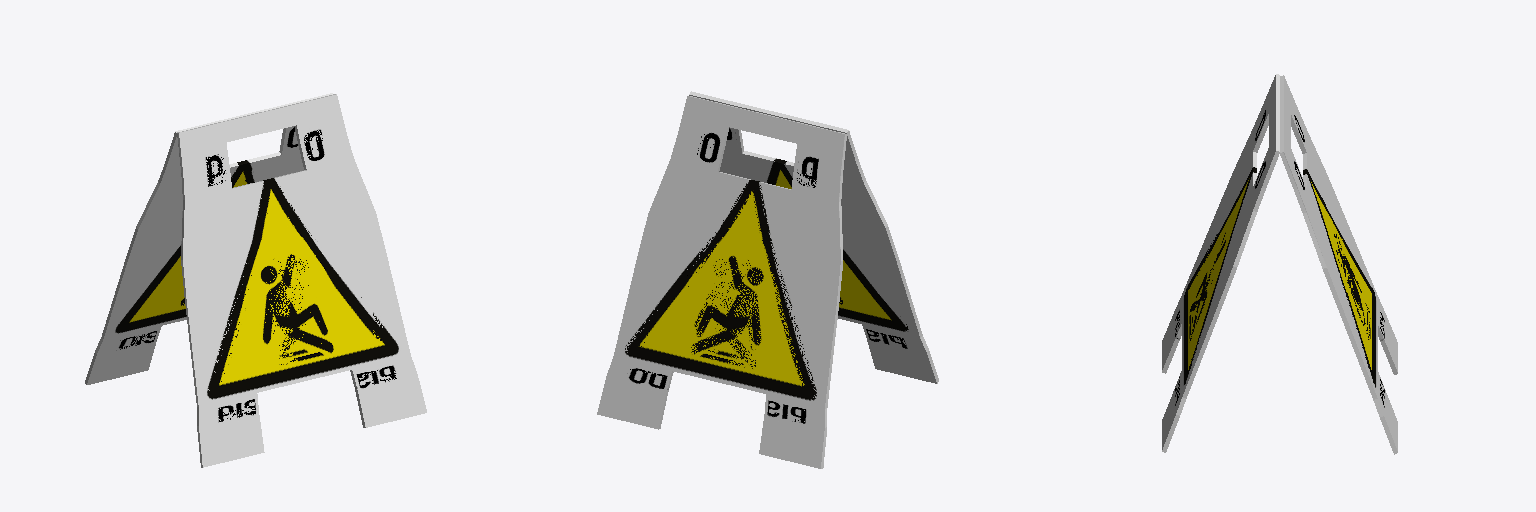
The picture shows the model from 3 angles: view 1: azimuth 30°, elevation 25°; view 2: azimuth 150°, elevation 25°; view 3: azimuth 270°, elevation 25°; orthographic projection.
Visible parts, largest first — view 1: Plano; view 2: Plano; view 3: Plano.
Boxes of the visible parts, x1=… form: Plano: x1=85, y1=93, x2=426, y2=467; Plano: x1=597, y1=91, x2=938, y2=468; Plano: x1=1162, y1=74, x2=1397, y2=454.
Size of the model in its own units: 1.55 by 1.9 by 1.42.
1 materials, 1 textured.